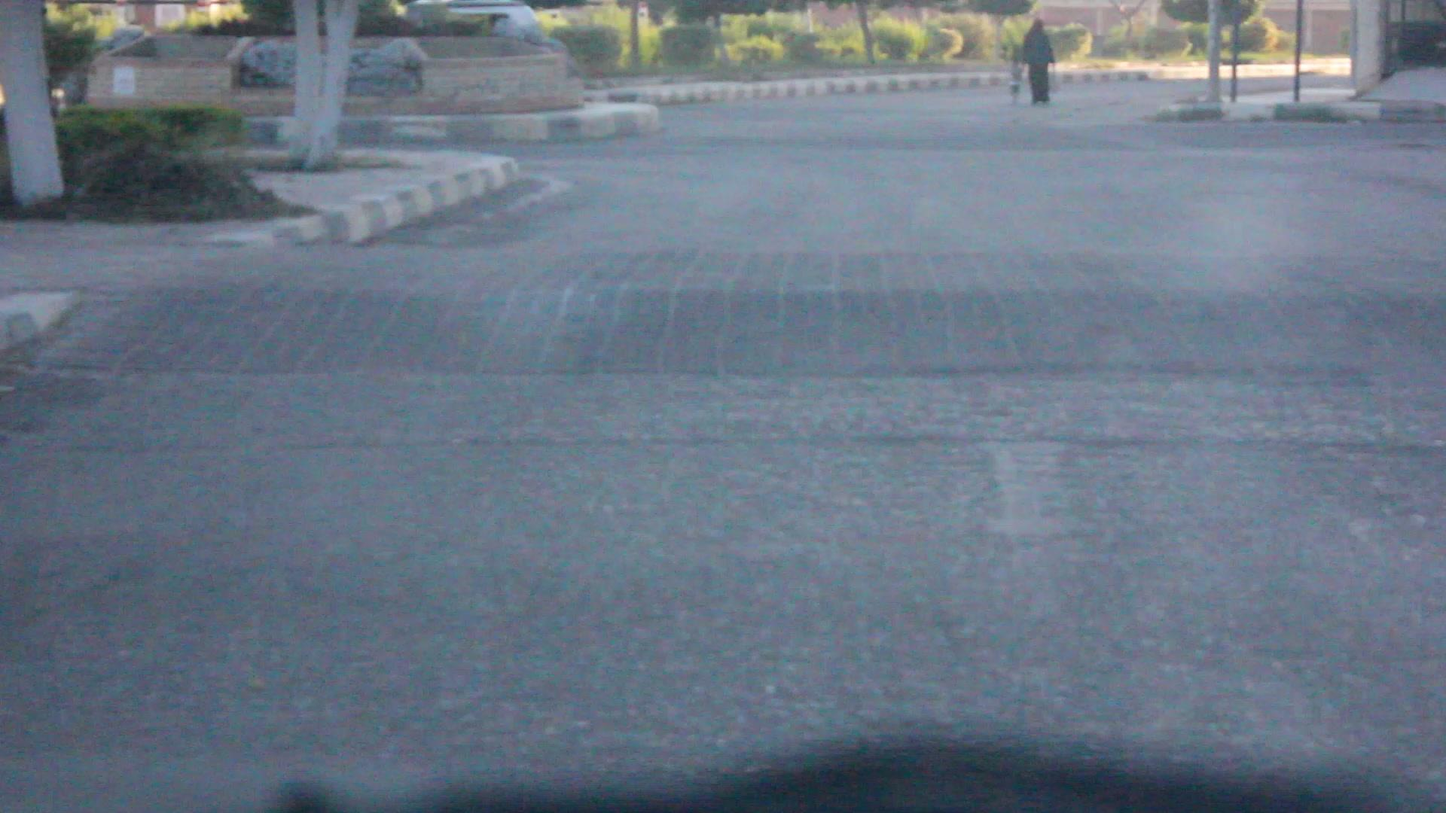Bump: (141, 215, 1446, 433)
